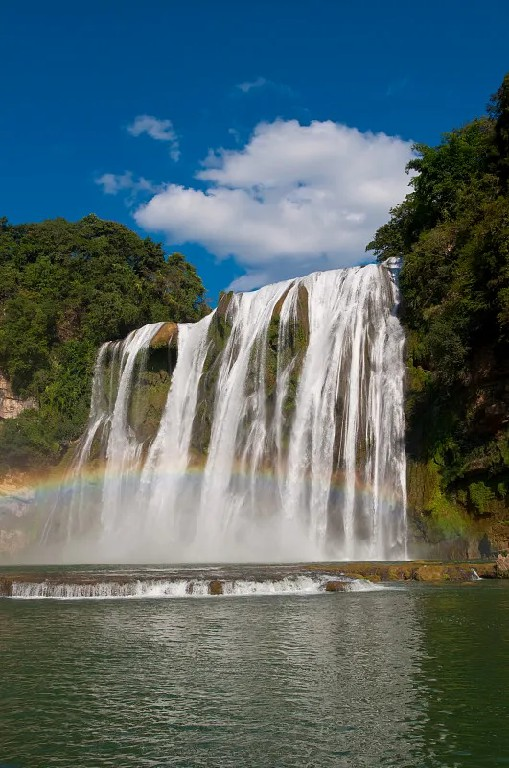Huangguoshu: (57, 265, 407, 561)
